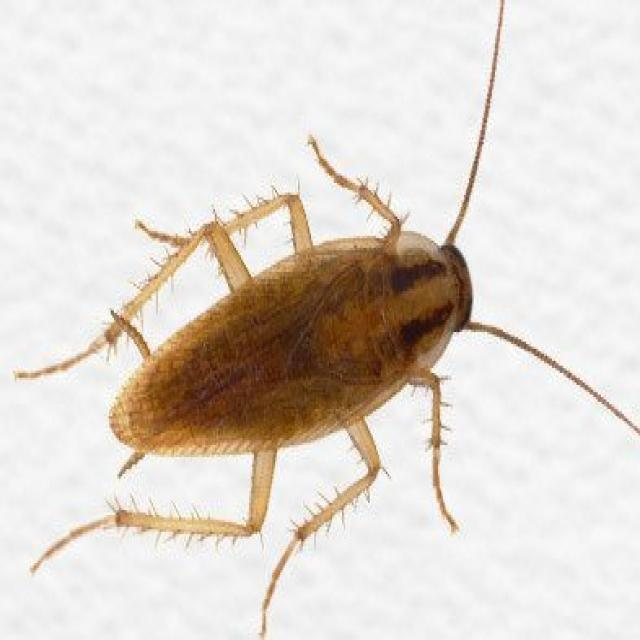Cockroach: (0, 77, 539, 623)
